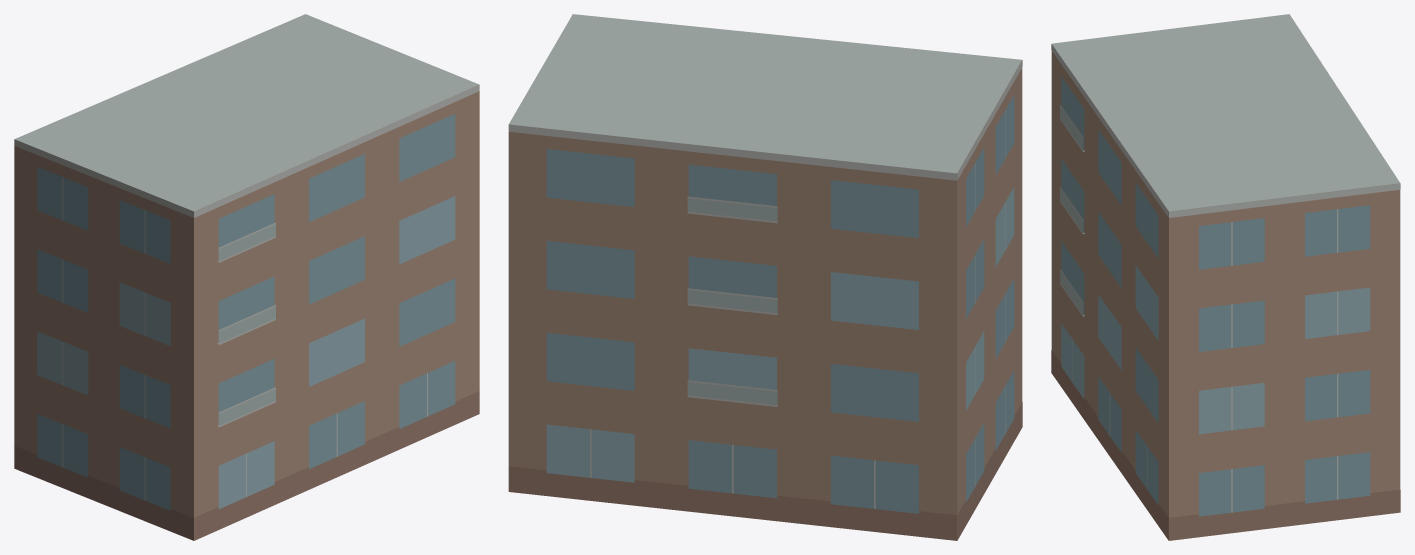
File: survey-upis-32863173.glb
The picture shows the model from 3 angles, left to right: view 1: azimuth 30°, elevation 25°; view 2: azimuth 150°, elevation 25°; view 3: azimuth 270°, elevation 25°; orthographic projection. The views are drawn at different scales.
Visible parts, largest first — view 1: survey-upis-32863173.tmp; view 2: survey-upis-32863173.tmp; view 3: survey-upis-32863173.tmp.
Part boxes in pixels (x1,y1,x2,y2): survey-upis-32863173.tmp: (14,14,479,540); survey-upis-32863173.tmp: (508,14,1022,540); survey-upis-32863173.tmp: (1051,14,1400,540).
Bounding box in the file's own units: 15.83 × 12.3 × 11.82.
